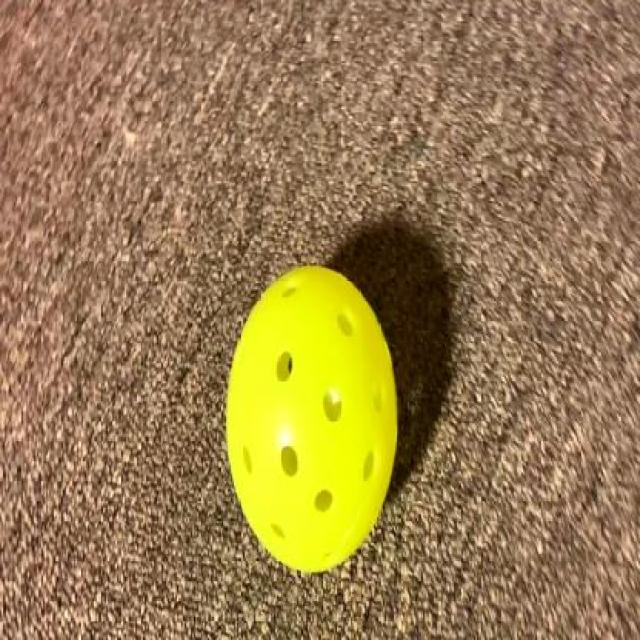ball: (210, 258, 409, 576)
